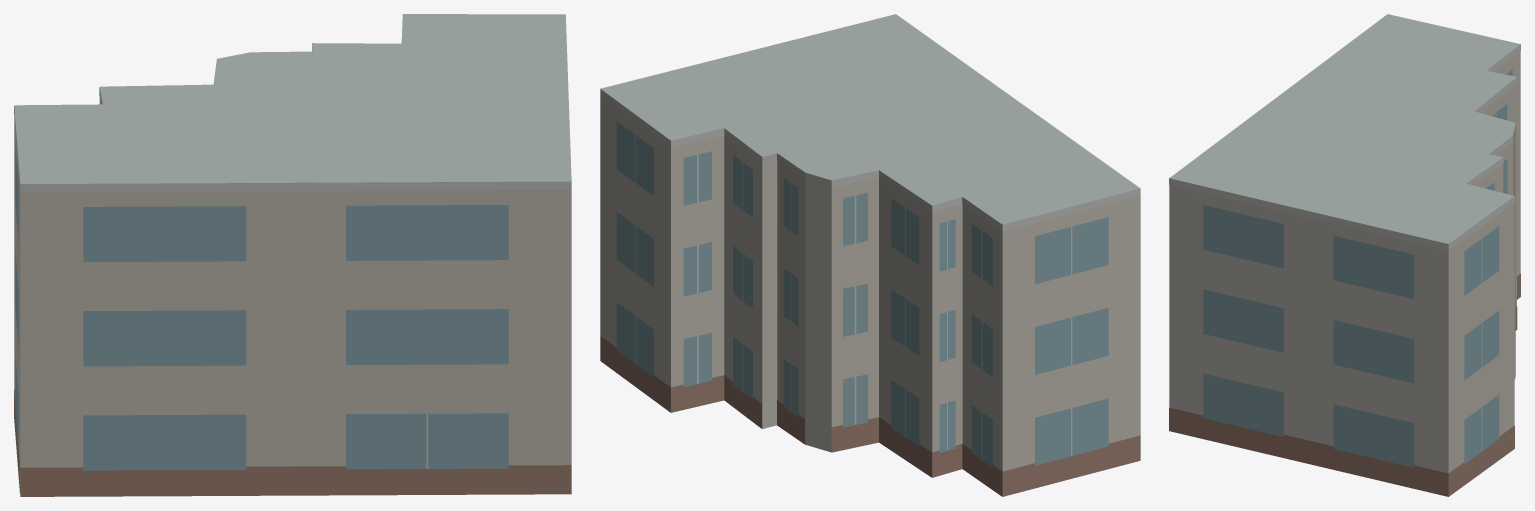
The model's file is survey-upis-32903954.glb.
3 views of the same model, side by side, from view 1: azimuth 30°, elevation 25°; view 2: azimuth 150°, elevation 25°; view 3: azimuth 270°, elevation 25° (orthographic). The views are drawn at different scales.
Visible parts, largest first — view 1: survey-upis-32903954.tmp; view 2: survey-upis-32903954.tmp; view 3: survey-upis-32903954.tmp.
Boxes of the visible parts, box(x1,y1,x2,y2) form: survey-upis-32903954.tmp: box(14, 14, 571, 496); survey-upis-32903954.tmp: box(600, 14, 1140, 496); survey-upis-32903954.tmp: box(1169, 14, 1520, 496).
Bounding box in the file's own units: 17.87 × 9.15 × 11.54.
